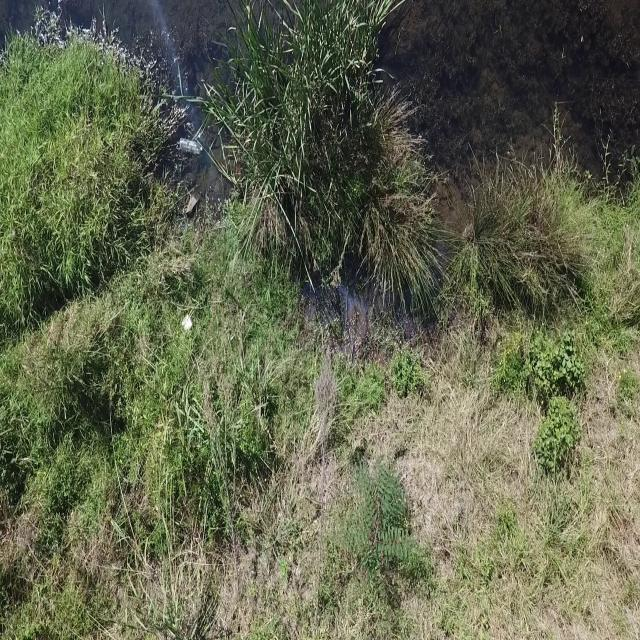Mysore-Thorn-Weed: (342, 455, 425, 593)
